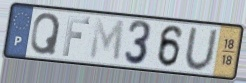3: (123, 19, 155, 68)
6: (155, 23, 184, 69)
F: (61, 15, 92, 58)
M: (88, 16, 126, 64)
Q: (29, 11, 63, 57)
U: (183, 26, 219, 73)
